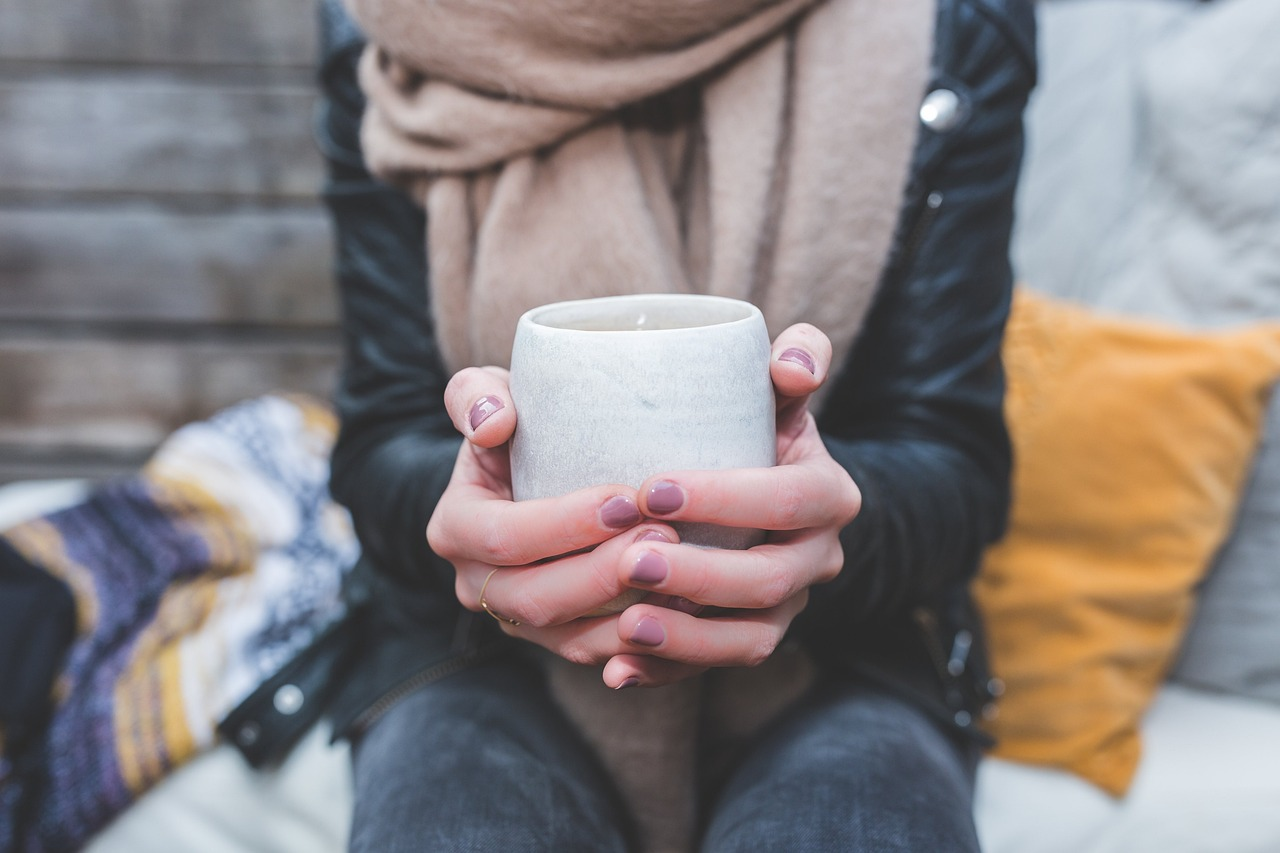mug: (482, 269, 803, 675)
